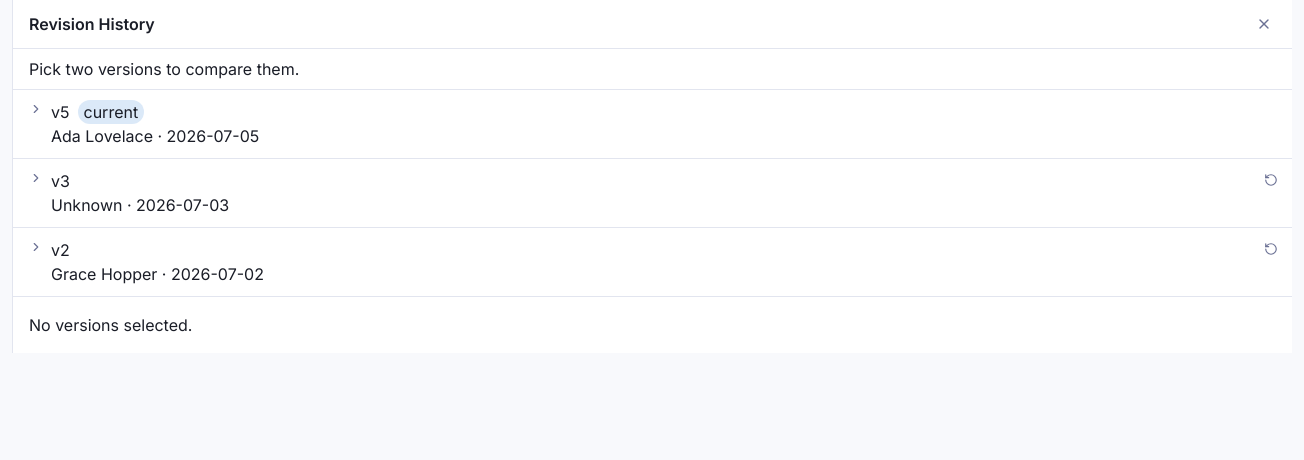
Test case: comparing two versions › starts a new selection on the third click
Click the button with test id "codex-revision-select" showing "v3 Unknown · 2026-07-03" at (87, 205), box [13,159,1254,227]
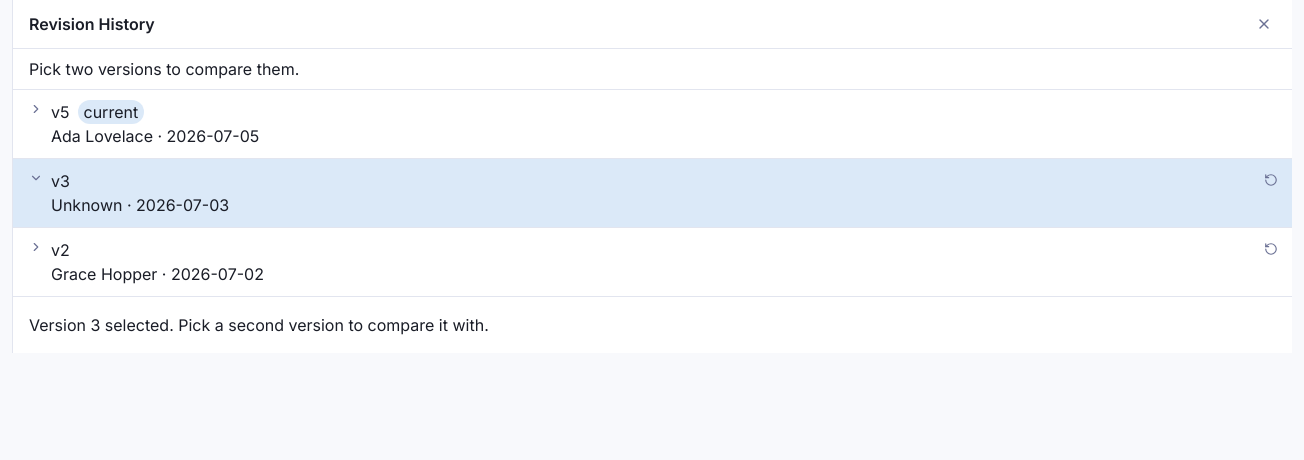
Click the button with test id "codex-revision-select" showing "v2 Grace Hopper · 2026-07-02" at (104, 274), box [13,228,1254,296]
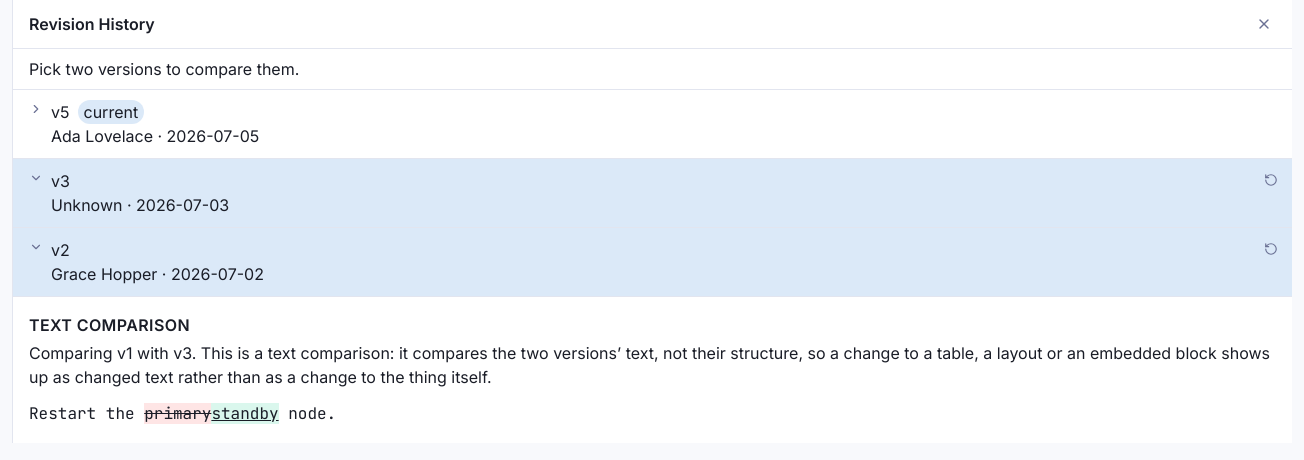
Expected: the element with test id "codex-revision-diff" is shown, [29,313,1276,427]
Click the button with test id "codex-revision-select" that starts with "current" at (111, 112), box [13,90,1292,158]
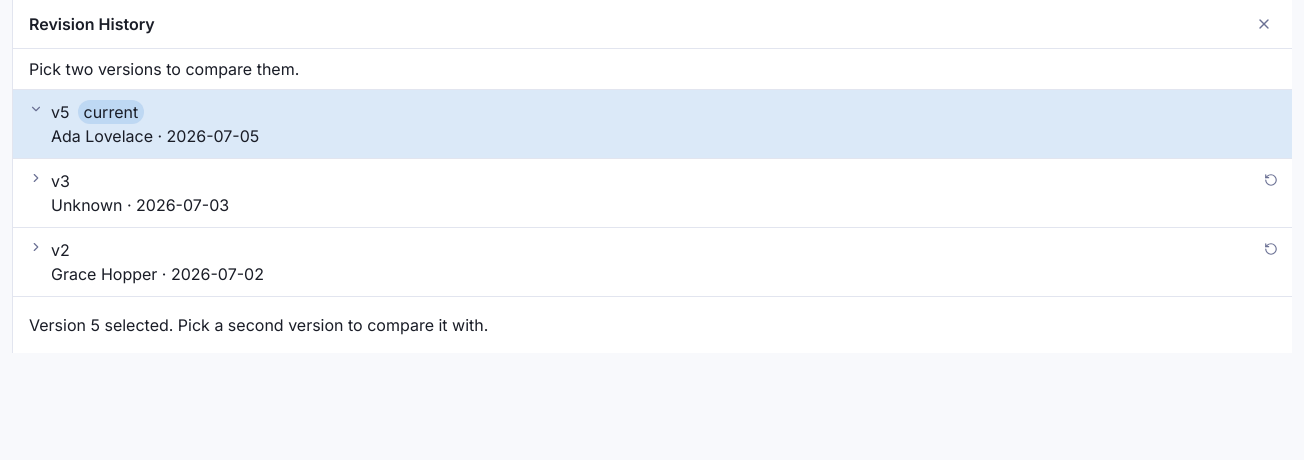
Expected: the element with test id "codex-revision-diff" is gone
